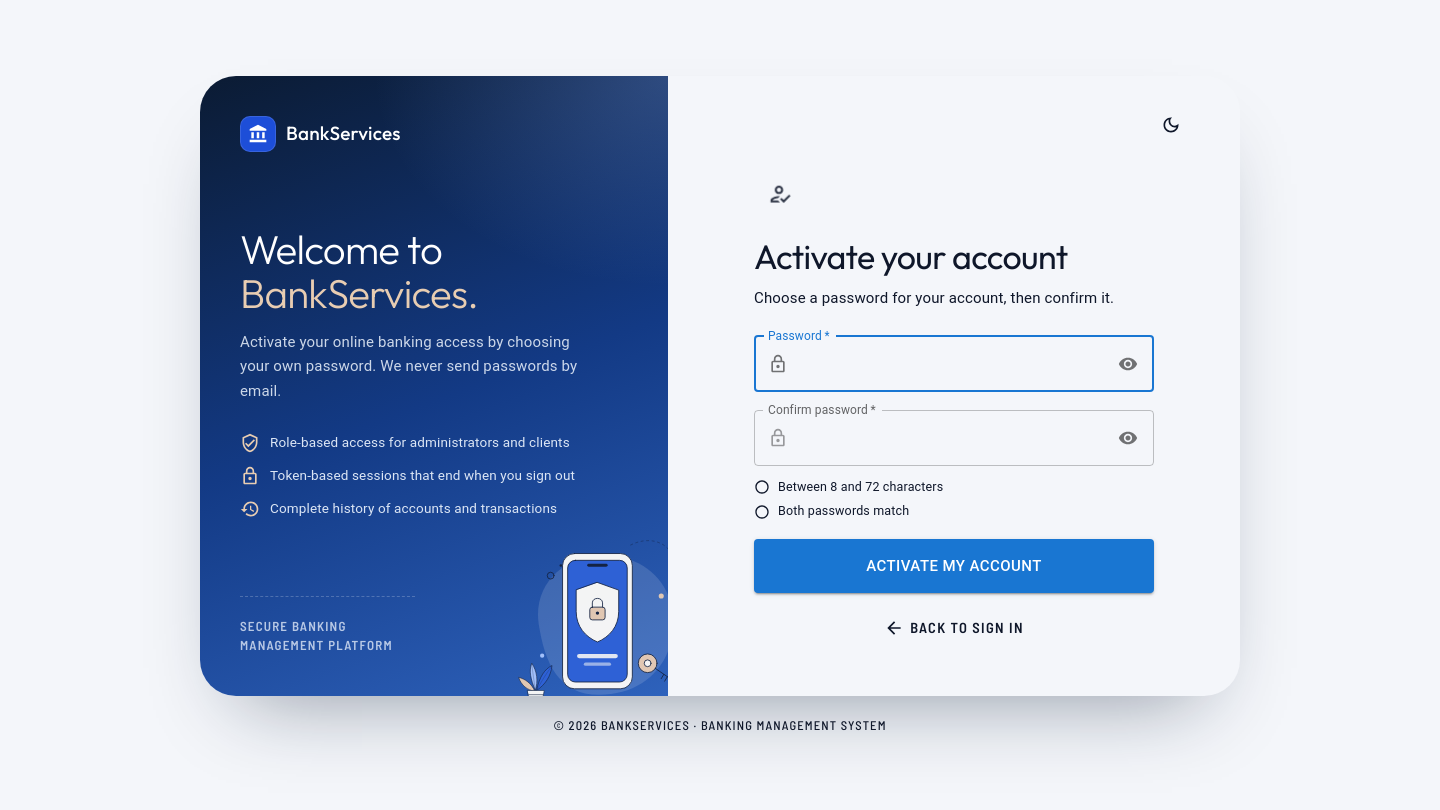
it: ActivateAccount page › offers a new link when the server says the link was already used
Type "ElisePass123" into the password field labelled "Password *" at (950, 364), box [796,336,1105,392]
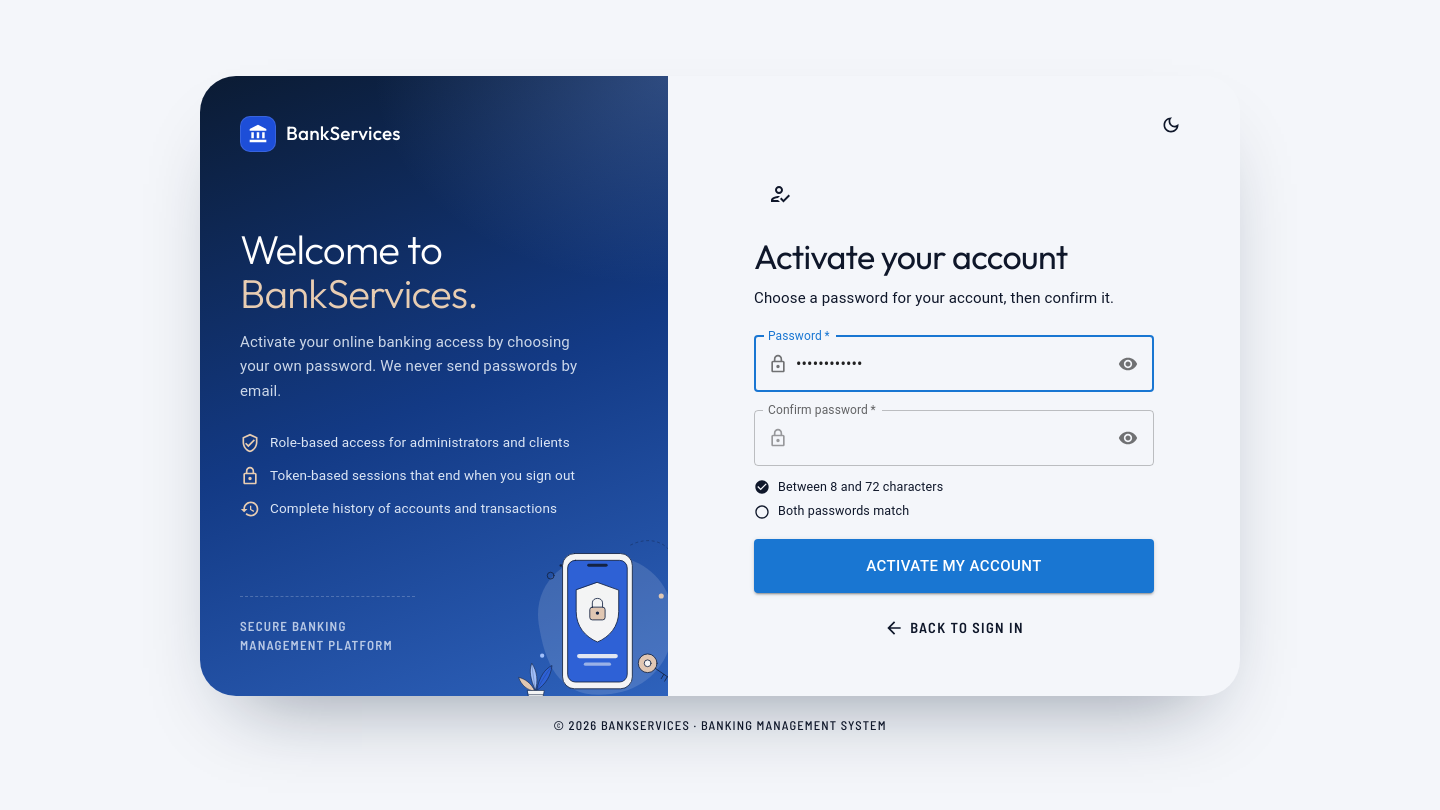
Type "ElisePass123" into the password field labelled "Confirm password *" at (950, 438), box [796,410,1105,466]
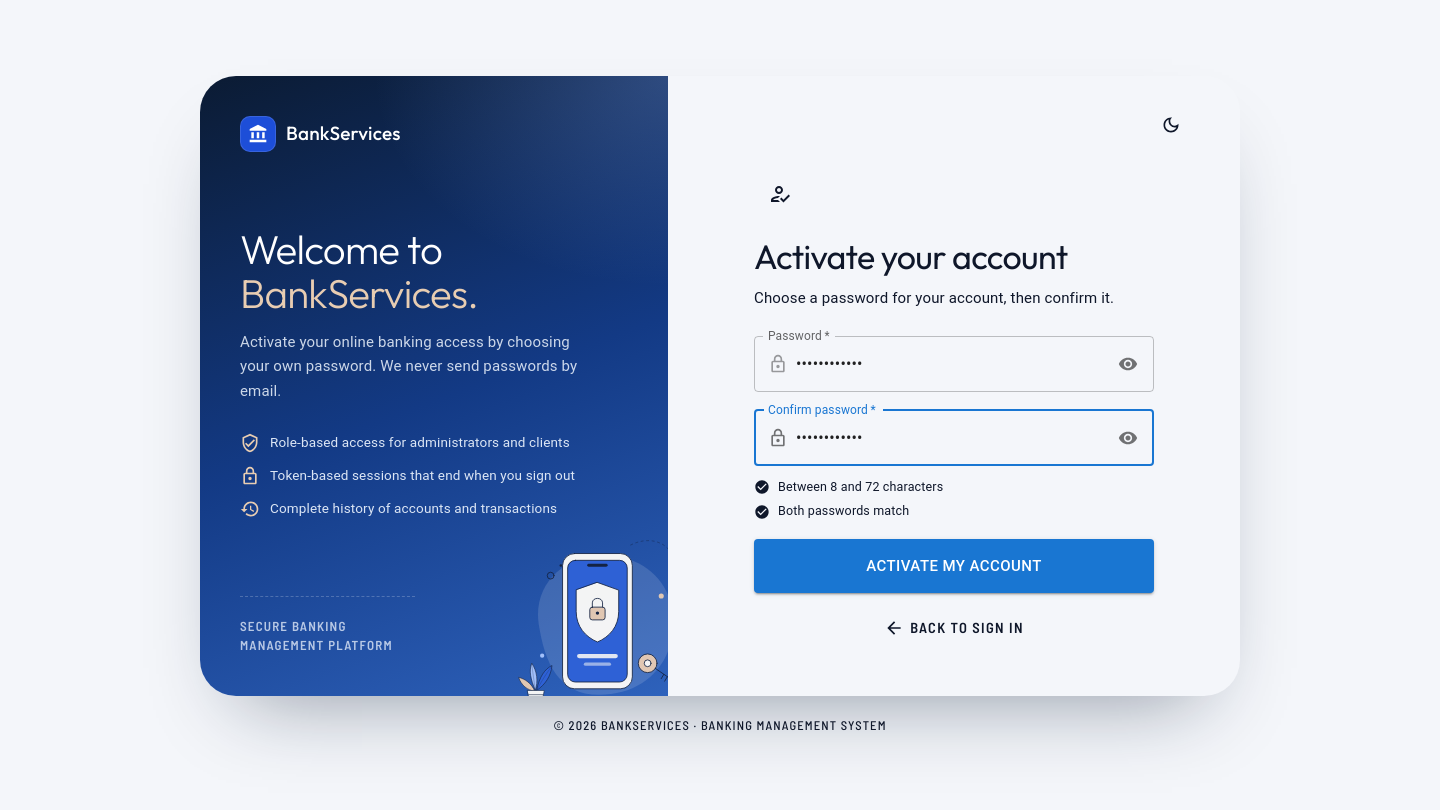
Click the button "Activate my account" at (954, 566), box [754,539,1154,593]
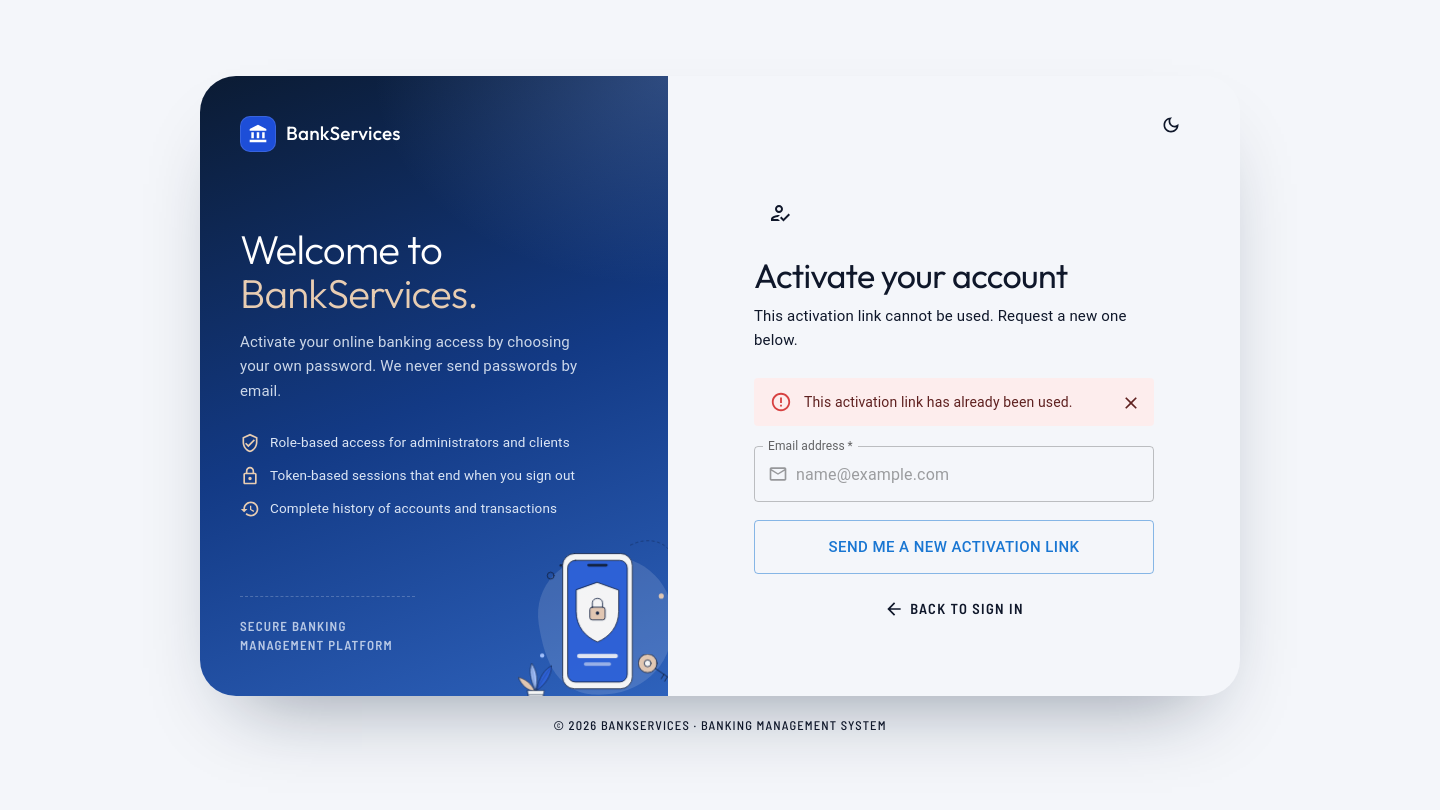
expect the text "This activation link has already been used." is shown: met, box [804,394,1073,410]
Type "elise@example.test" into the field labelled "Email address *" at (975, 474), box [796,446,1154,502]
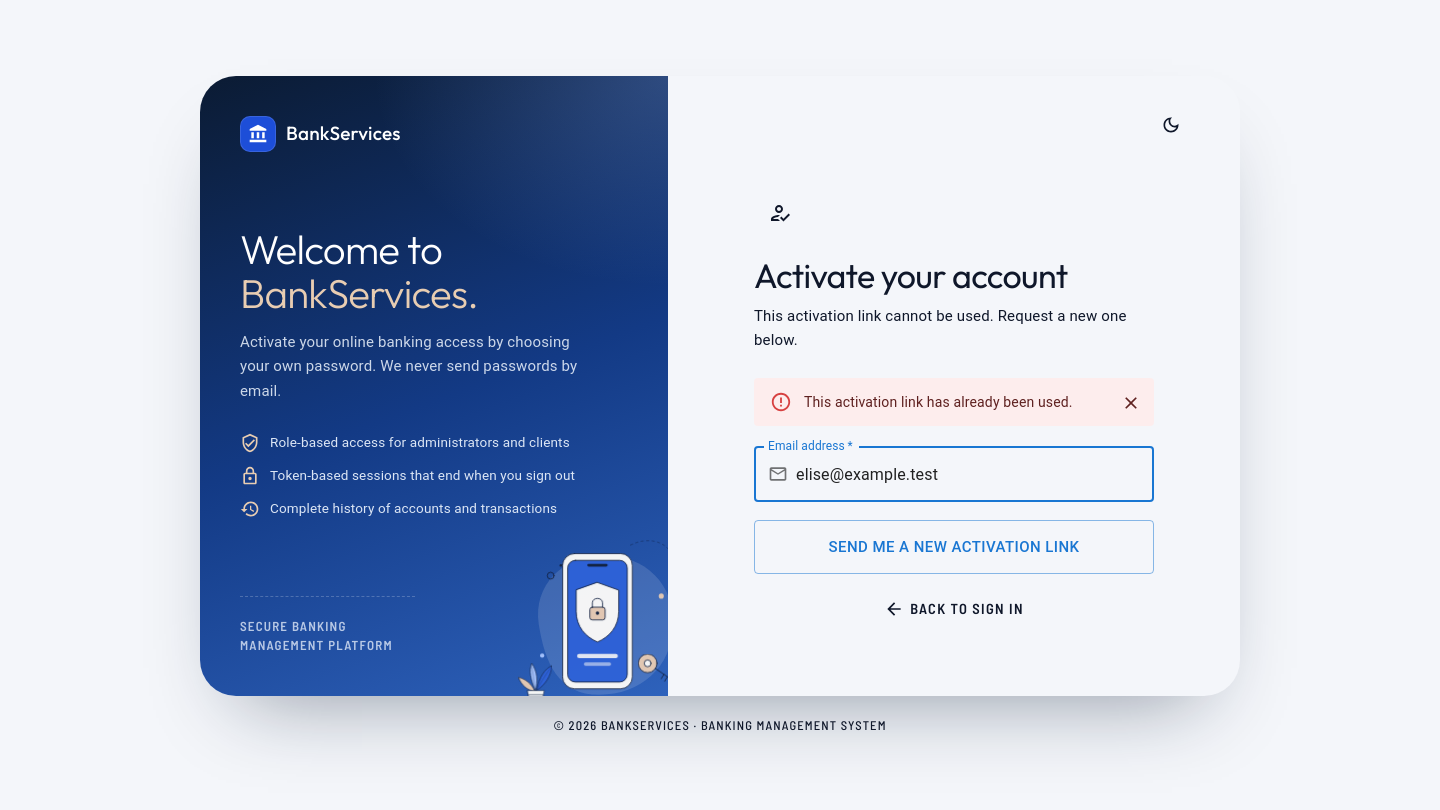
Click the button "Send me a new activation link" at (954, 547), box [754,520,1154,574]
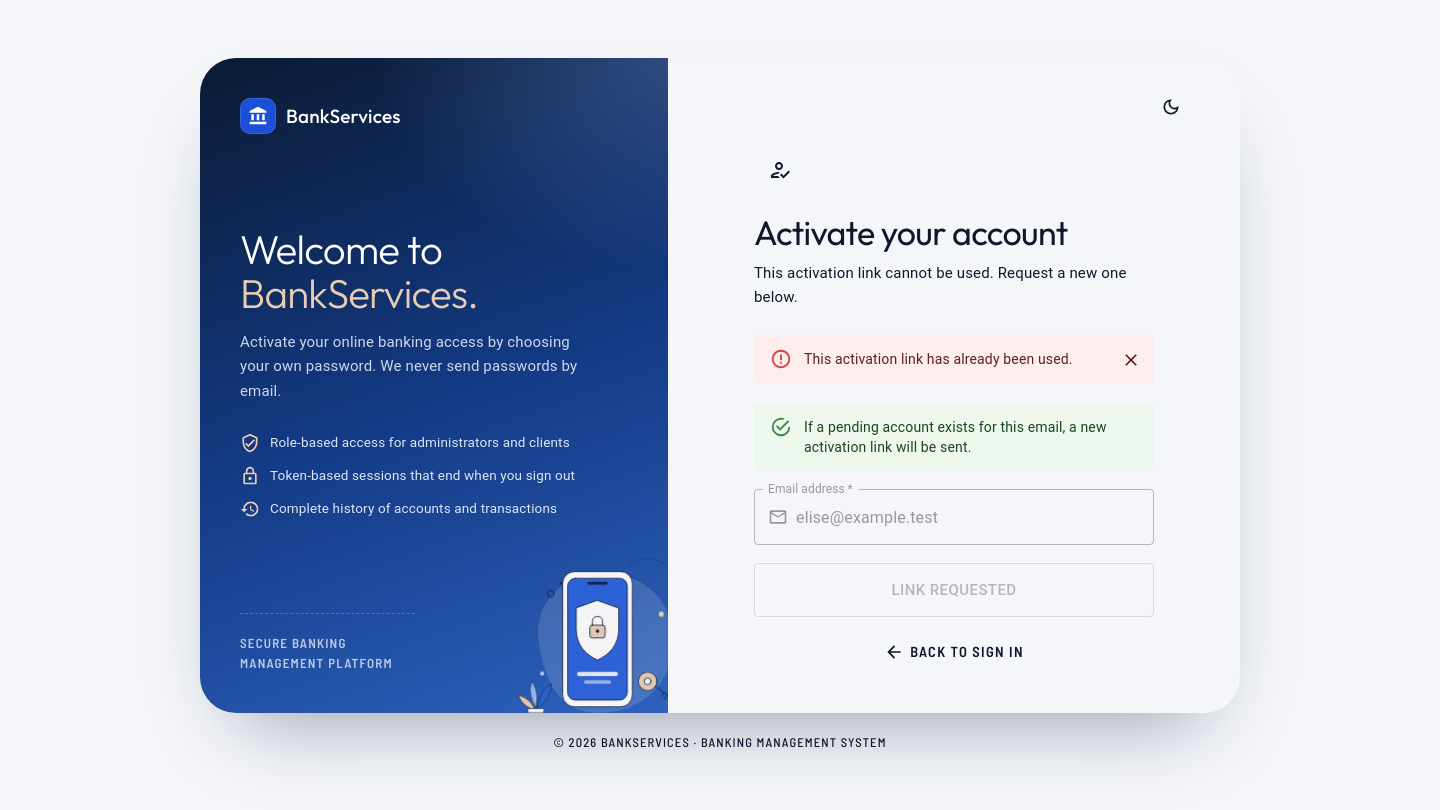
expect the text "new activation link will be sent" is shown: met, box [804,419,1107,455]
